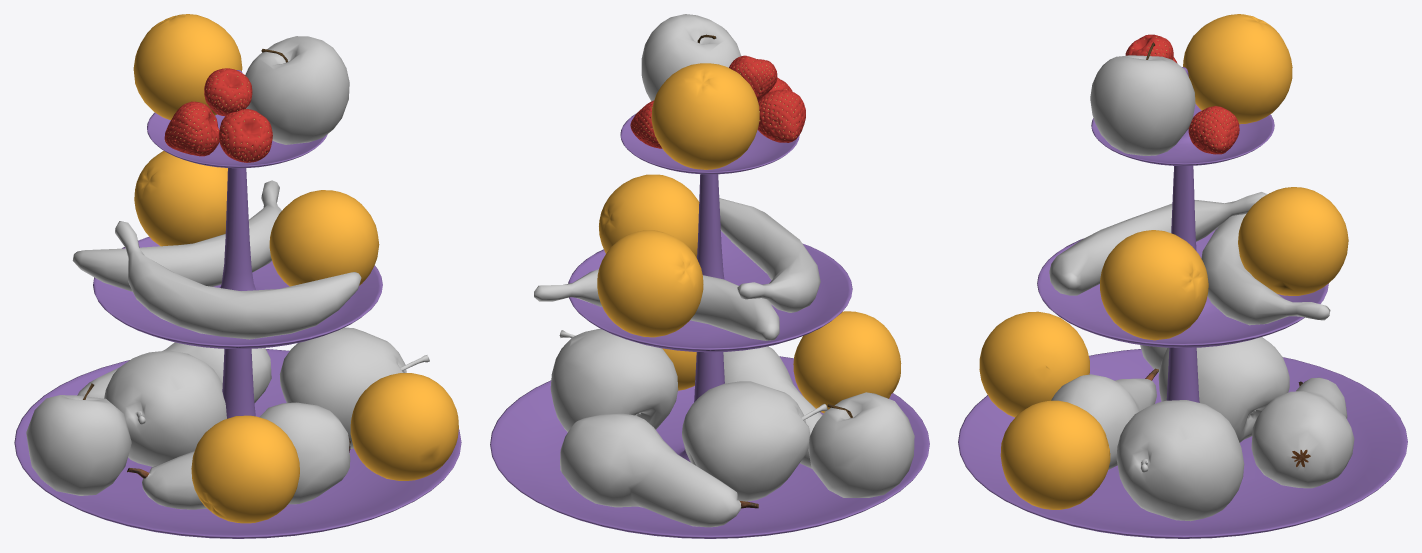
File: FruitBowl_LOD1.fbx
3 views of the same model, side by side, from view 1: azimuth 30°, elevation 25°; view 2: azimuth 150°, elevation 25°; view 3: azimuth 270°, elevation 25° (orthographic). The views are drawn at different scales.
Visible parts, largest first — view 1: fruit_bowl, Banana1, Pear1, Orange4, Orange5, Apple2, Apple1, Orange3, Pear2, Pear3, Orange1, Orange2 (+5 smaller); view 2: fruit_bowl, Pear4, Pear1, Pear2, Orange1, Orange2, Apple2, Orange5, Banana1, Orange3, Banana2, Apple1 (+5 smaller); view 3: fruit_bowl, Pear2, Orange4, Orange3, Orange2, Orange1, Apple1, Pear4, Orange5, Pear1, Banana1, Banana2 (+3 smaller).
Boxes of the visible parts, bbox=[...] form: fruit_bowl: bbox=[14, 70, 461, 538]; Banana1: bbox=[115, 221, 361, 339]; Pear1: bbox=[104, 350, 226, 466]; Orange4: bbox=[350, 373, 458, 480]; Orange5: bbox=[191, 415, 299, 523]; Apple2: bbox=[26, 383, 131, 495]; Apple1: bbox=[245, 36, 349, 144]; Orange3: bbox=[269, 190, 379, 286]; Pear2: bbox=[279, 327, 429, 448]; Pear3: bbox=[127, 402, 350, 509]; Orange1: bbox=[133, 14, 242, 120]; Orange2: bbox=[134, 151, 227, 246]; fruit_bowl: bbox=[490, 113, 929, 538]; Pear4: bbox=[560, 413, 758, 527]; Pear1: bbox=[682, 381, 827, 501]; Pear2: bbox=[550, 329, 678, 432]; Orange1: bbox=[651, 63, 759, 169]; Orange2: bbox=[597, 230, 703, 337]; Apple2: bbox=[808, 392, 914, 497]; Orange5: bbox=[793, 311, 901, 413]; Banana1: bbox=[719, 198, 820, 312]; Orange3: bbox=[599, 174, 699, 257]; Banana2: bbox=[534, 269, 779, 340]; Apple1: bbox=[641, 14, 741, 101]; fruit_bowl: bbox=[958, 67, 1407, 538]; Pear2: bbox=[1116, 400, 1244, 521]; Orange4: bbox=[1000, 400, 1110, 509]; Orange3: bbox=[1100, 230, 1208, 340]; Orange2: bbox=[1238, 187, 1348, 295]; Orange1: bbox=[1183, 14, 1292, 124]; Apple1: bbox=[1090, 42, 1195, 155]; Pear4: bbox=[1251, 377, 1354, 488]; Orange5: bbox=[979, 311, 1089, 417]; Pear1: bbox=[1158, 337, 1289, 442]; Banana1: bbox=[1049, 192, 1267, 295]; Banana2: bbox=[1201, 214, 1330, 325].
Bounding box in the file's own units: 28.91 × 30.69 × 28.3.
